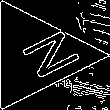N_SW: (0, 25, 73, 85)
